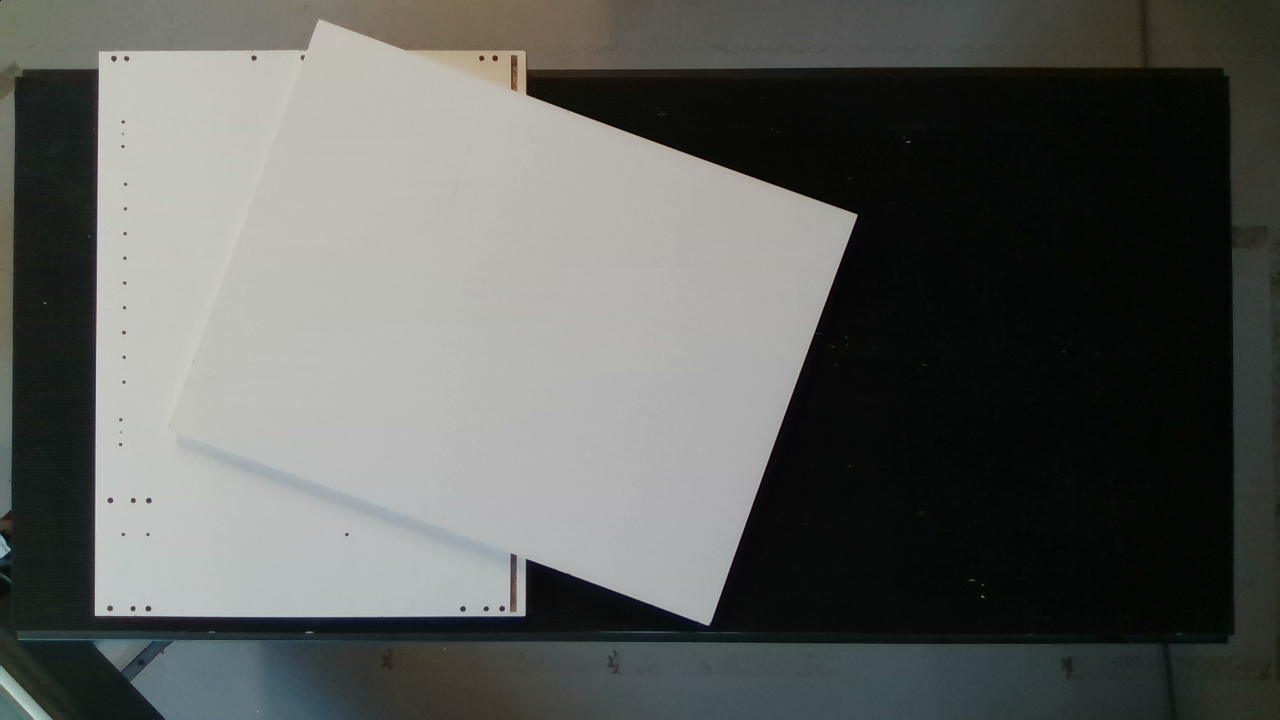part2: (157, 16, 867, 633)
